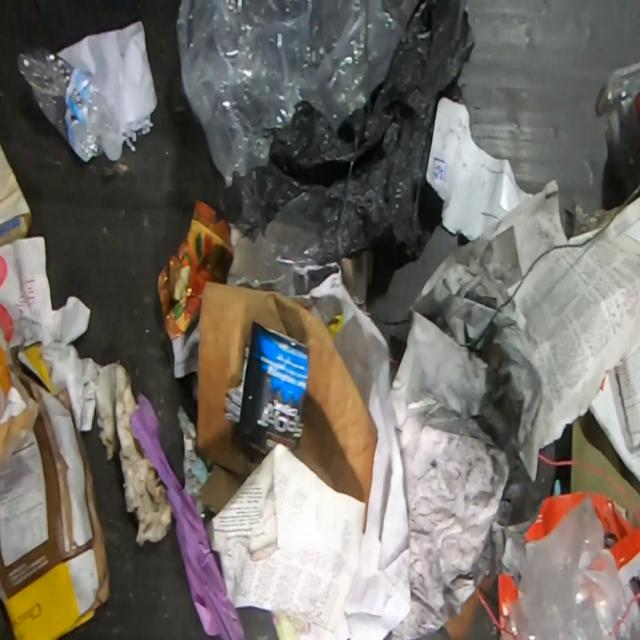cardboard: (194, 281, 378, 502), (0, 341, 110, 639), (525, 493, 640, 615), (572, 411, 640, 527), (496, 574, 518, 629)
rigid_plastic: (18, 46, 121, 164), (595, 63, 640, 201)
soft_plastic: (218, 1, 476, 310), (176, 0, 420, 188), (498, 501, 640, 640), (218, 187, 314, 291)
